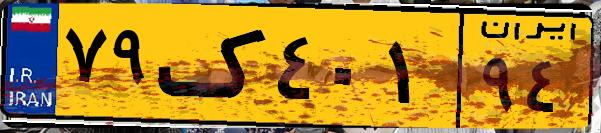0: (330, 28, 385, 110)
1: (385, 28, 445, 110)
4: (270, 28, 330, 110), (525, 38, 570, 115)
7: (57, 26, 110, 100)
9: (475, 38, 525, 113), (110, 28, 158, 98)
ک: (158, 12, 270, 120)
